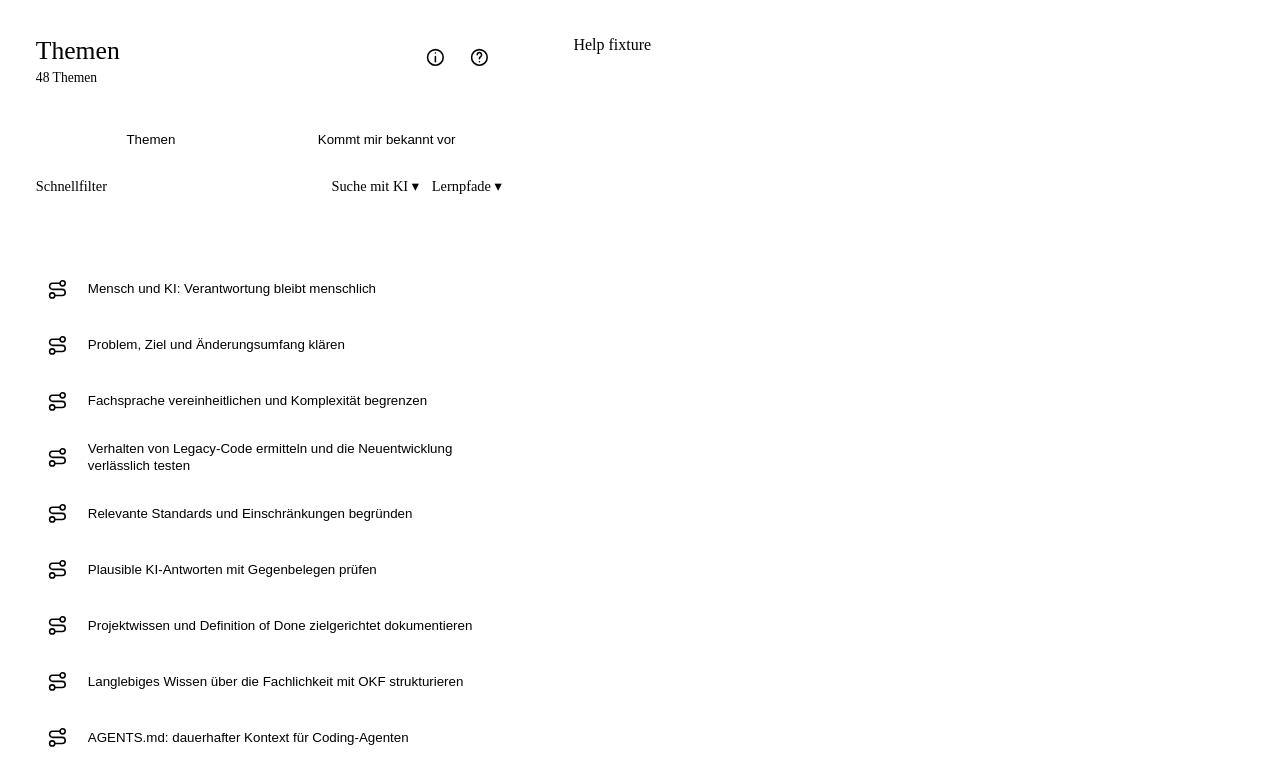
TopicBrowser › shows the complete topic after a user selects it
Click the button "Mensch und KI: Verantwortung bleibt menschlich": (292, 289) [82, 261, 502, 317]
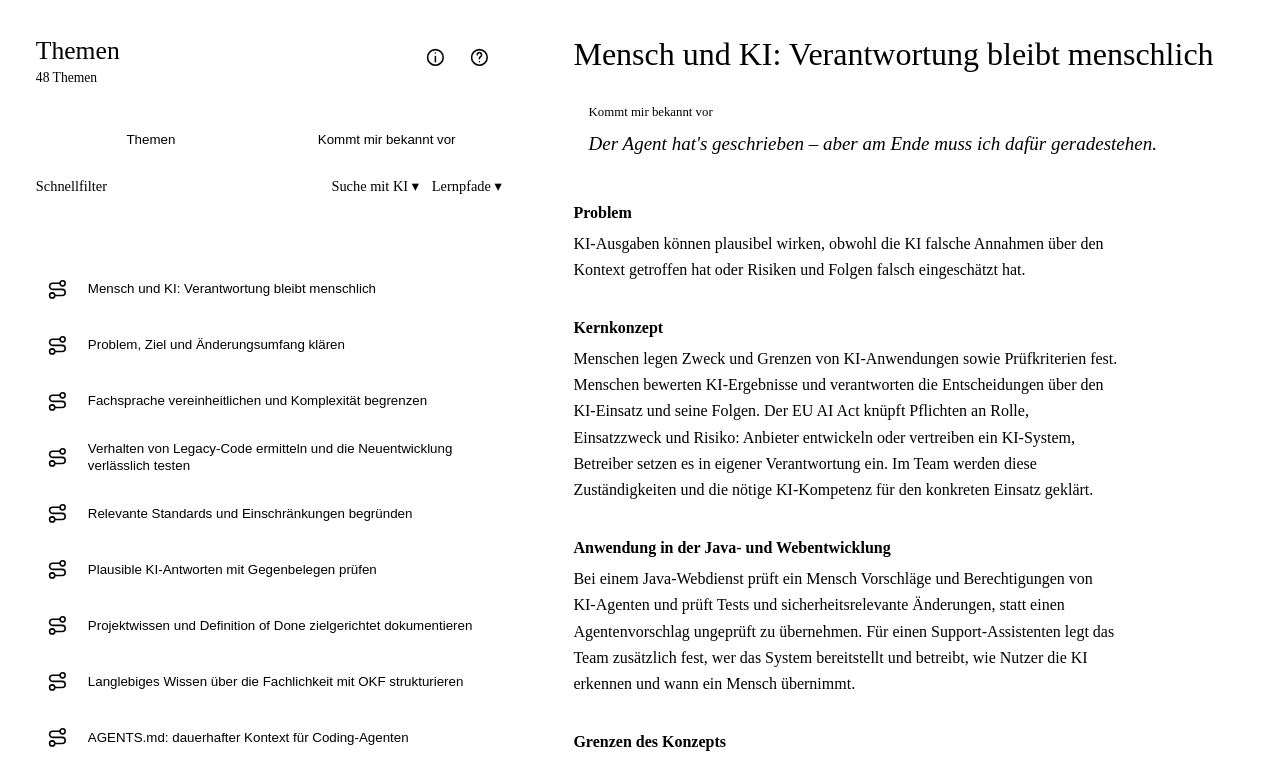
Expected: the heading "Problem" is shown, [573, 204, 632, 221]
Expected: the element "Kommt mir bekannt vor" shows "Der Agent hat's geschrieben – aber am Ende muss ich dafür geradestehen.", [589, 133, 1157, 154]
Expected: the text "KI-Ausgaben können plausibel wirken, obwohl die KI falsche Annahmen über den Kontext getroffen hat oder Risiken und Folg" is shown, [573, 235, 1104, 278]
